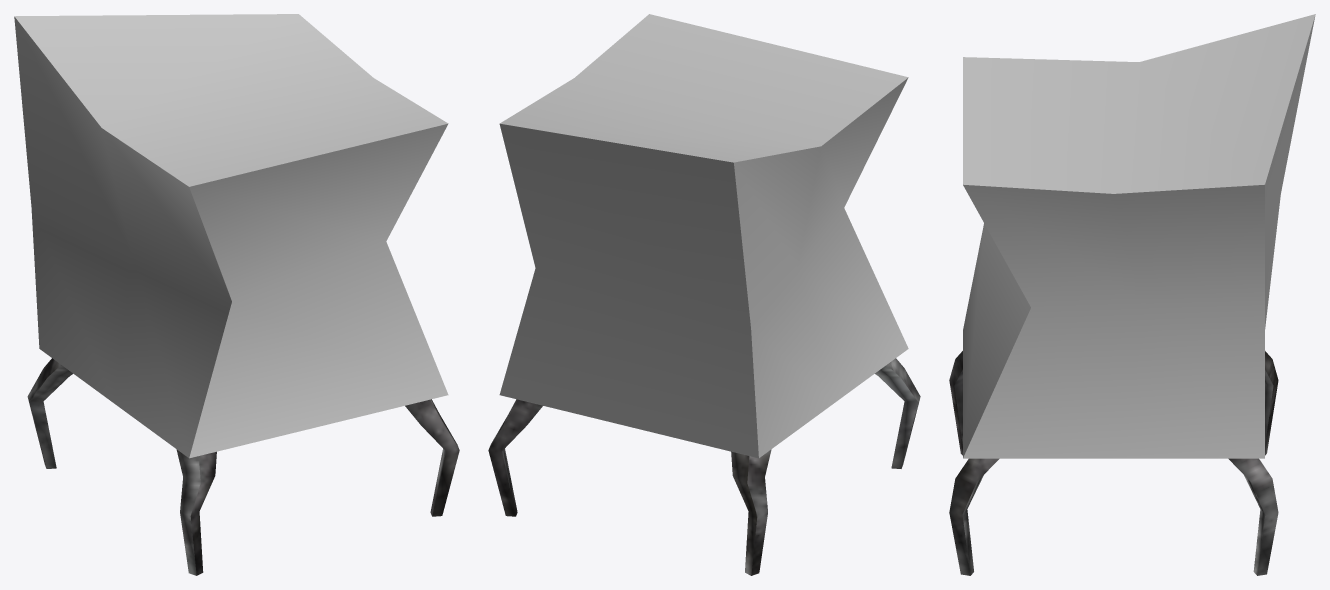
Rendered from box_creature_renewed.fbx.
3 renders of one model, left to right at view 1: azimuth 30°, elevation 25°; view 2: azimuth 150°, elevation 25°; view 3: azimuth 270°, elevation 25°, orthographic.
Visible parts, largest first — view 1: Cube.004, Cube.008, Cube.005, Cube.007; view 2: Cube.004, Cube.007, Cube.006, Cube.008; view 3: Cube.004, Cube.006, Cube.005, Cube.008, Cube.007.
Boxes of the visible parts, x1,y1,x2,y2 form: Cube.004: (14, 14, 448, 458); Cube.008: (176, 449, 216, 575); Cube.005: (405, 399, 459, 516); Cube.007: (27, 358, 72, 468); Cube.004: (499, 14, 908, 458); Cube.007: (731, 449, 771, 575); Cube.006: (488, 399, 542, 516); Cube.008: (875, 358, 920, 468); Cube.004: (963, 14, 1315, 458); Cube.006: (1228, 458, 1278, 575); Cube.005: (949, 458, 999, 575); Cube.008: (949, 351, 962, 455); Cube.007: (1265, 351, 1278, 455).
Size of the model in its own units: 138 by 206 by 157.
